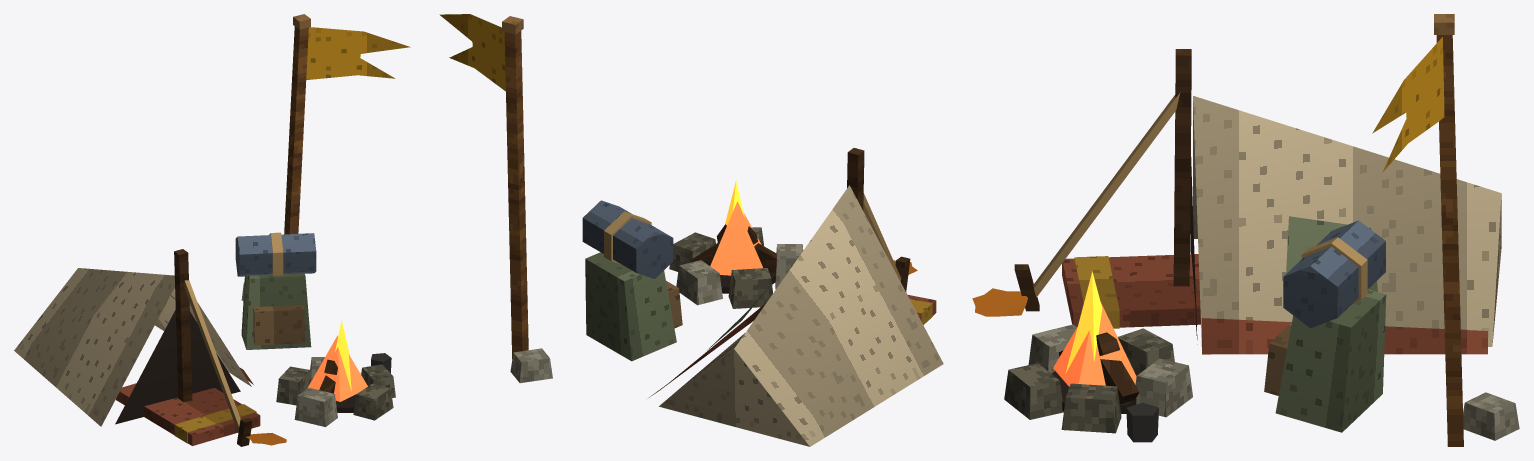
Rendered from party_camp.glb.
The picture shows the model from 3 angles, left to right: view 1: azimuth 30°, elevation 25°; view 2: azimuth 150°, elevation 25°; view 3: azimuth 270°, elevation 25°; orthographic projection. The views are drawn at different scales.
Parts seen in each view (by area): view 1: party_camp, sway_pennant, glow_fire; view 2: party_camp, sway_pennant, glow_fire; view 3: party_camp, sway_pennant, glow_fire.
Boxes of the visible parts, box(x1,y1,x2,y2) form: party_camp: box(14, 14, 395, 446); sway_pennant: box(306, 27, 410, 79); glow_fire: box(307, 320, 367, 401); party_camp: box(502, 16, 943, 446); sway_pennant: box(439, 14, 505, 91); glow_fire: box(710, 180, 762, 275); party_camp: box(972, 14, 1519, 446); sway_pennant: box(1372, 37, 1444, 172); glow_fire: box(1053, 271, 1136, 386).
Bounding box in the file's own units: 2.87 × 2.11 × 2.39.
18 materials, 12 textured.
